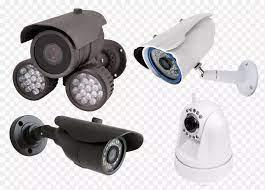maru: (172, 96, 231, 180)
tutu: (13, 7, 128, 110), (8, 115, 148, 173), (134, 10, 216, 87)
